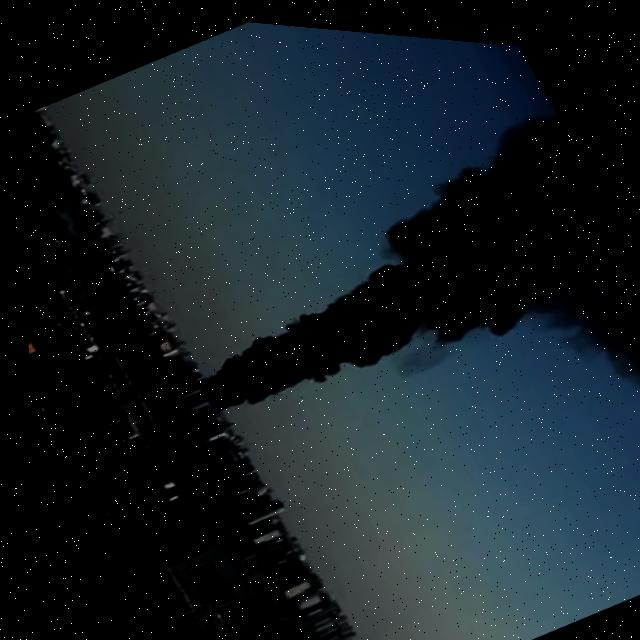Smoke: (120, 60, 640, 508)
